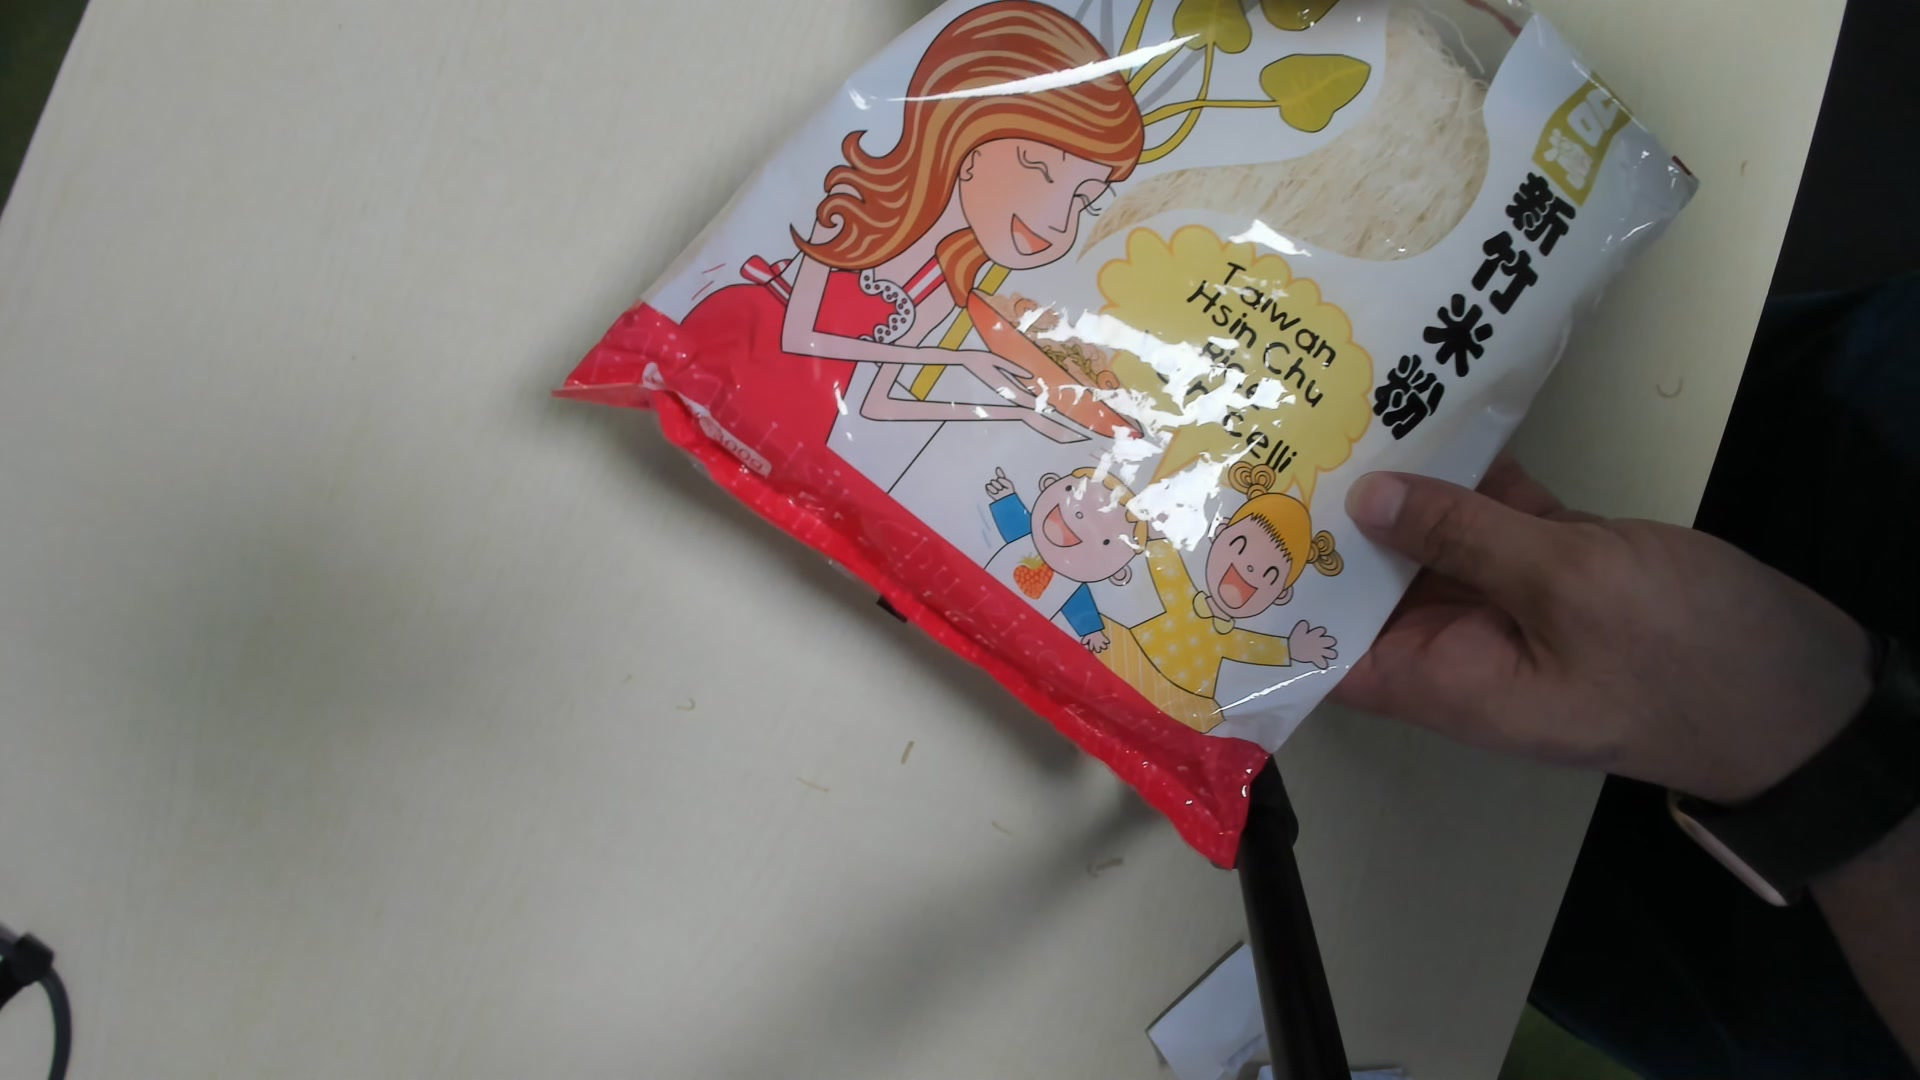BeeHoonVermicelli_0-99g_NonHalal_NonHealthy: (562, 7, 1716, 852)
